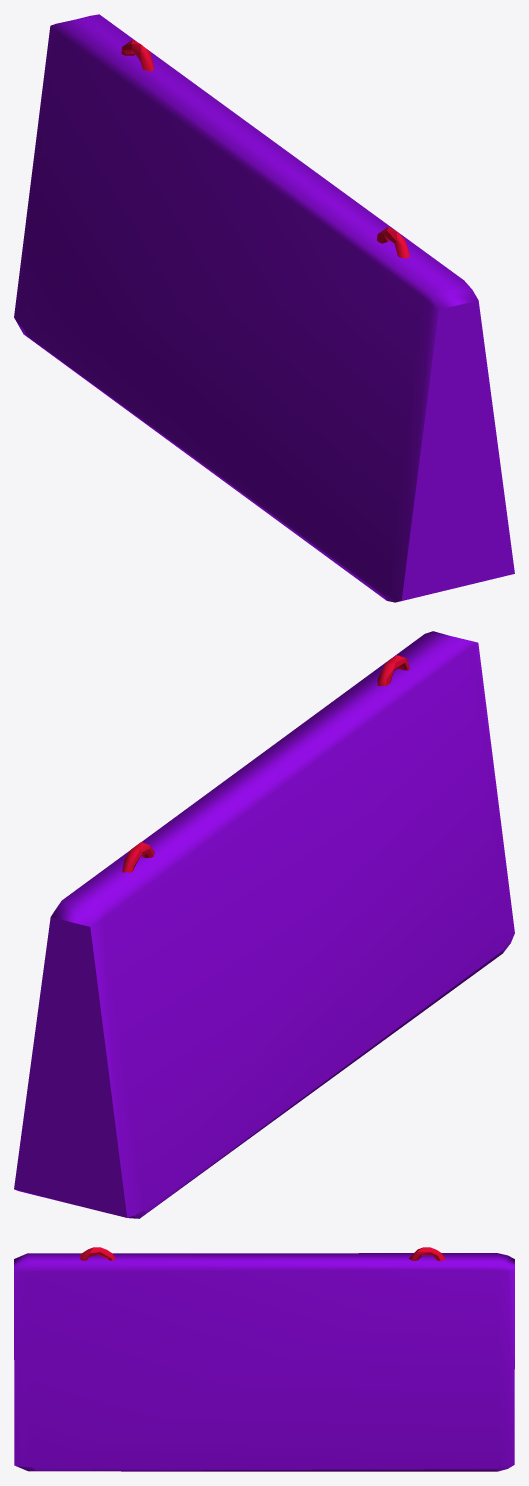
Rendered from Block.fbx.
3 views of the same model, one above another, from view 1: azimuth 30°, elevation 25°; view 2: azimuth 150°, elevation 25°; view 3: azimuth 270°, elevation 25° (orthographic). The views are drawn at different scales.
Visible parts, largest first — view 1: Block; view 2: Block; view 3: Block.
Boxes of the visible parts, left/top/right/bottom form: Block: left=14, top=14, right=514, bottom=602; Block: left=14, top=631, right=514, bottom=1218; Block: left=14, top=1247, right=514, bottom=1471.
Size of the model in its own units: 261 by 668 by 1471.
